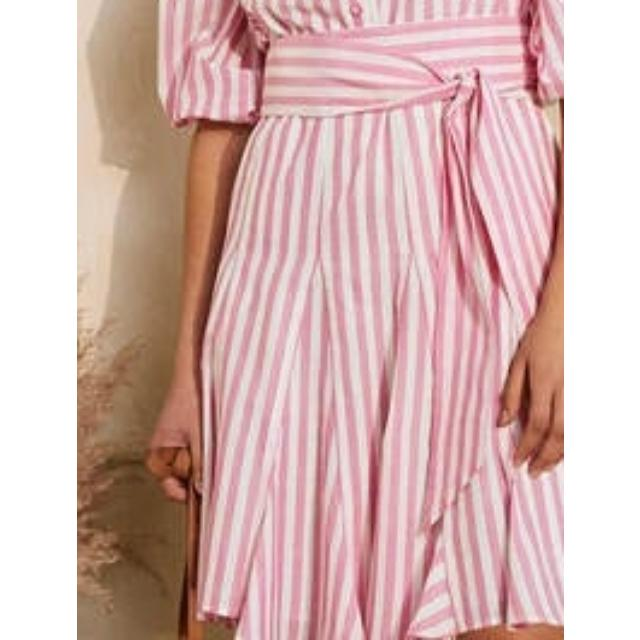cotton: (182, 0, 564, 640)
